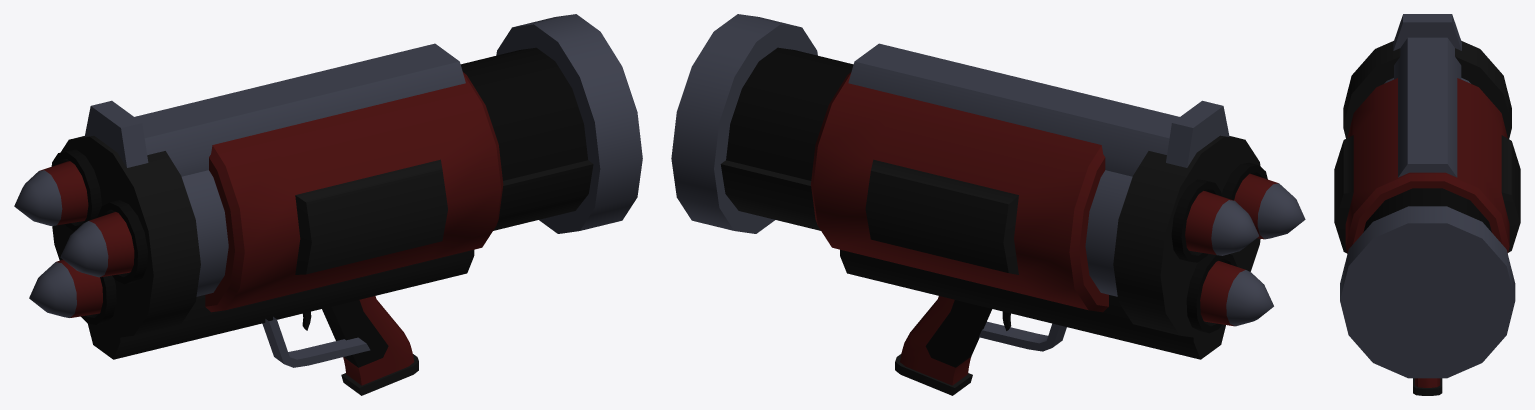
Rendered from RocketLauncher.obj.
3 renders of one model, left to right at view 1: azimuth 30°, elevation 25°; view 2: azimuth 150°, elevation 25°; view 3: azimuth 270°, elevation 25°, orthographic. The views are drawn at different scales.
Parts seen in each view (by area): view 1: RocketLauncher_Cube.298; view 2: RocketLauncher_Cube.298; view 3: RocketLauncher_Cube.298.
Part boxes in pixels (left/top/right/bottom): RocketLauncher_Cube.298: left=14, top=14, right=642, bottom=395; RocketLauncher_Cube.298: left=671, top=14, right=1305, bottom=395; RocketLauncher_Cube.298: left=1334, top=14, right=1520, bottom=395.
Bounding box in the file's own units: 1.3 × 0.7465 × 0.4689.
